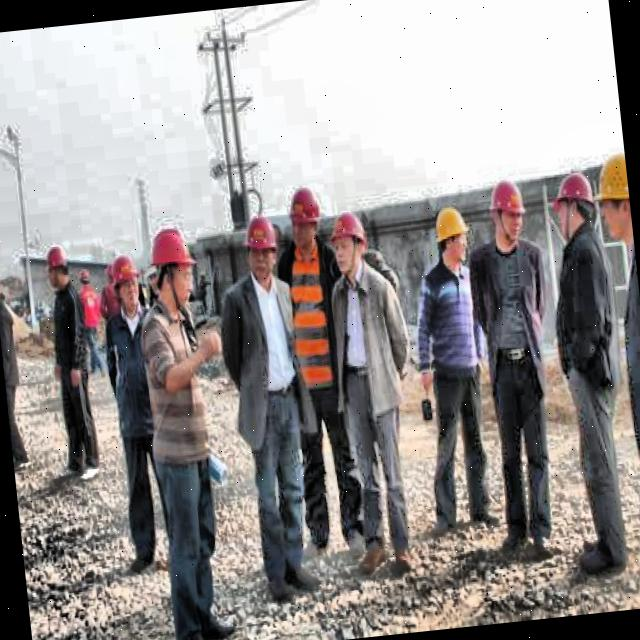helmet: (145, 220, 199, 315), (592, 144, 632, 249), (550, 167, 598, 244), (326, 204, 369, 278), (242, 210, 281, 286), (431, 203, 472, 274), (486, 176, 526, 247), (286, 180, 326, 248), (109, 248, 142, 314), (44, 241, 72, 295)
